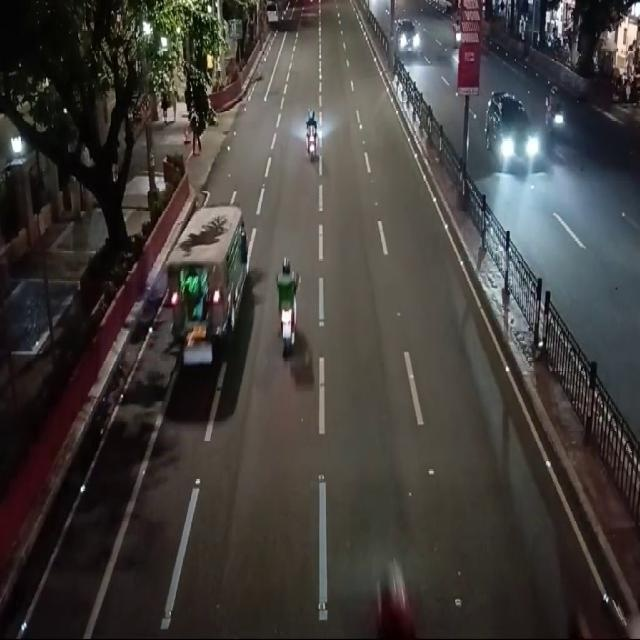car: (484, 94, 540, 177)
jeepney: (160, 199, 251, 386)
motorcycle: (276, 256, 300, 363), (543, 72, 570, 148), (303, 103, 323, 159)
